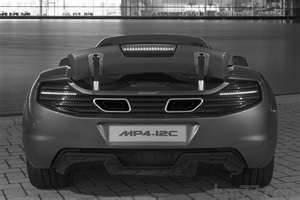car: (25, 37, 275, 189)
